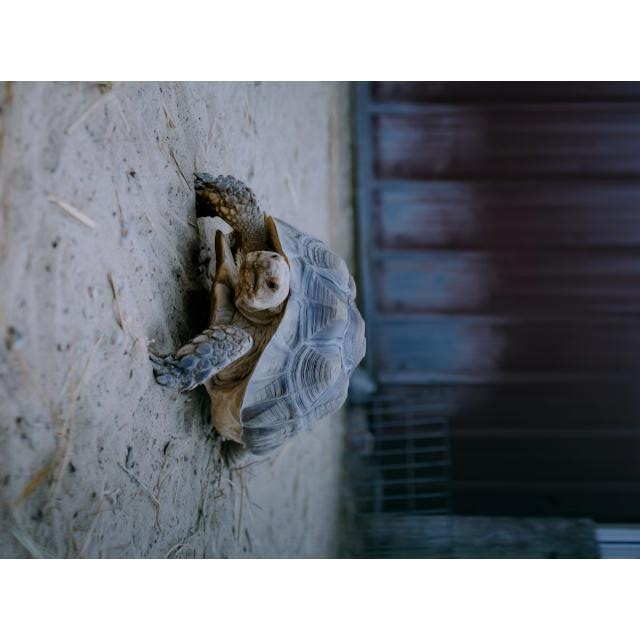turtle: (146, 172, 367, 473)
